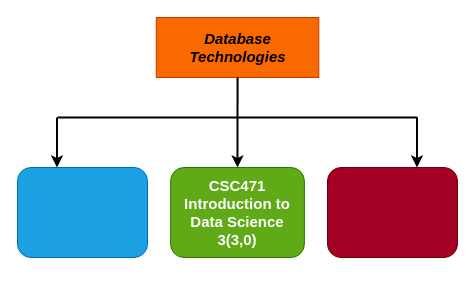
Image size: 475x283. Some labels were removed from this diagram. Each missing label, with the centre of its shape:
"CSC347 Computational Intelligence 3(3,0)" belongs at (x=82, y=212).
"CSC495 Game Development 3(3,0)" belongs at (x=392, y=212).
